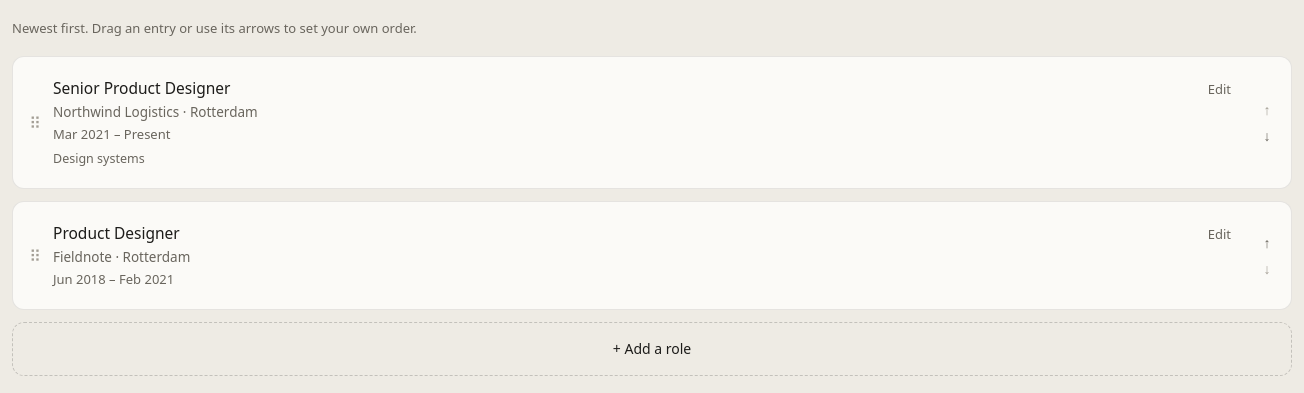
Test: reordering roles (E4-9) › moves a role with its arrows, saves the order and says so
Check: the text "Newest first" is shown, box [12,19,417,37]
Step 1. Click the button named "Move “Senior Product Designer” down" → (1267,136), box [1255,124,1279,148]
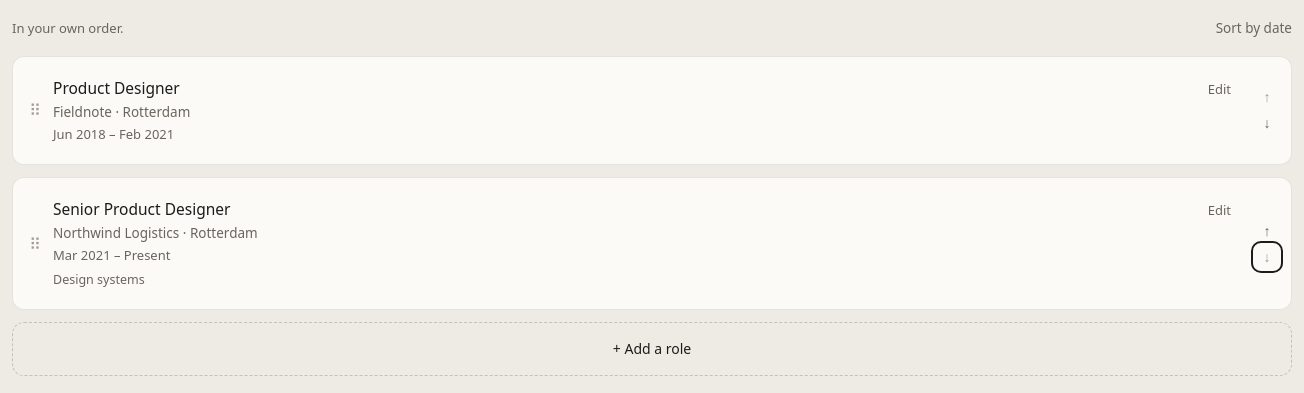
Check: the text "In your own order." is shown, box [12,19,123,37]
